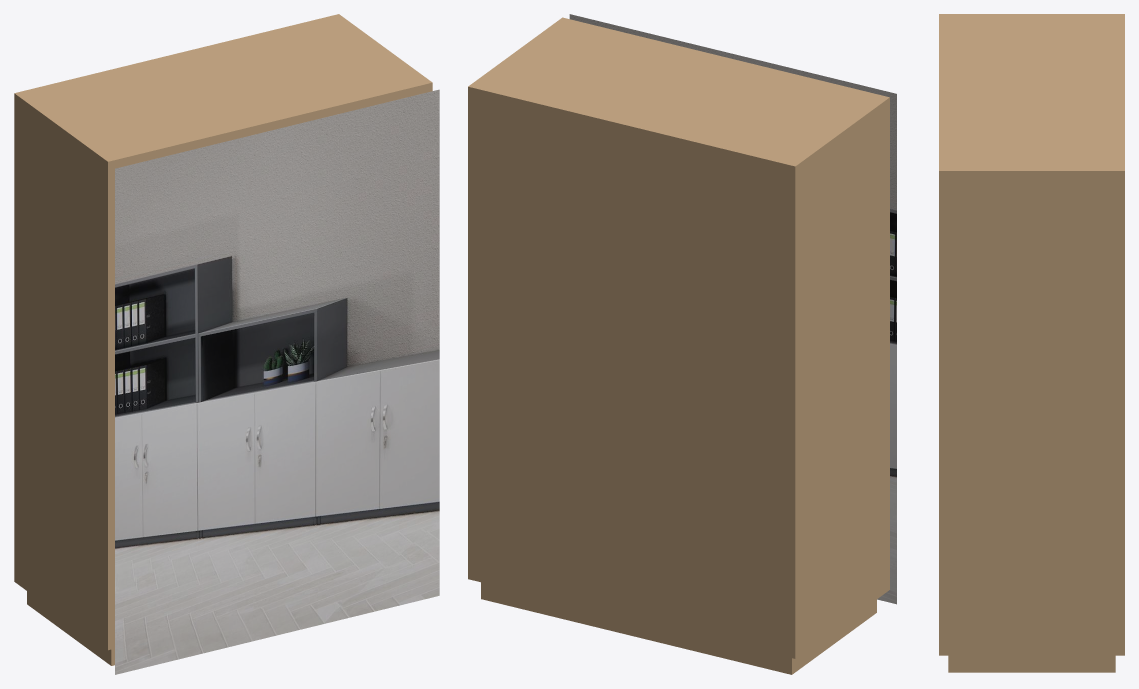
Rendered from mocan-71.glb.
3 renders of one model, left to right at view 1: azimuth 30°, elevation 25°; view 2: azimuth 150°, elevation 25°; view 3: azimuth 270°, elevation 25°, orthographic.
Visible parts, largest first — view 1: furniture; view 2: furniture; view 3: furniture.
Boxes of the visible parts, x1,y1,x2,y2 form: furniture: (14,14,439,674); furniture: (468,14,896,674); furniture: (939,14,1124,672).
Size of the model in its own units: 0.8 by 1.2 by 0.43.
Materials: 2 (1 with a texture image).
